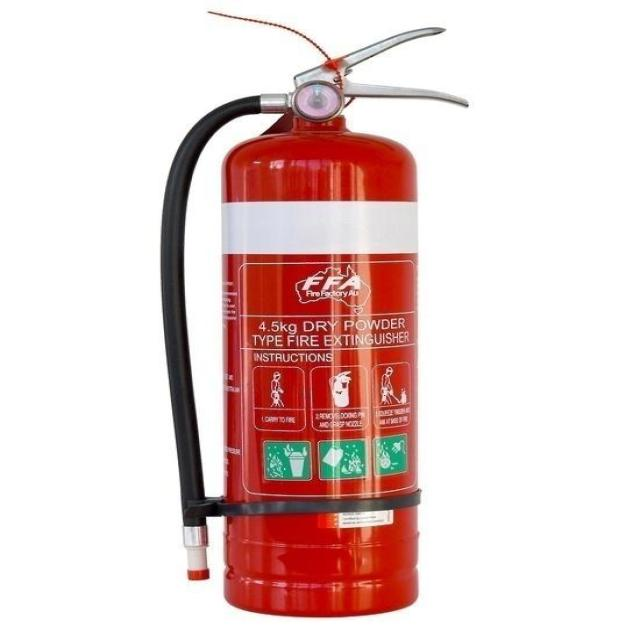fire_extinguisher: (155, 9, 475, 620)
